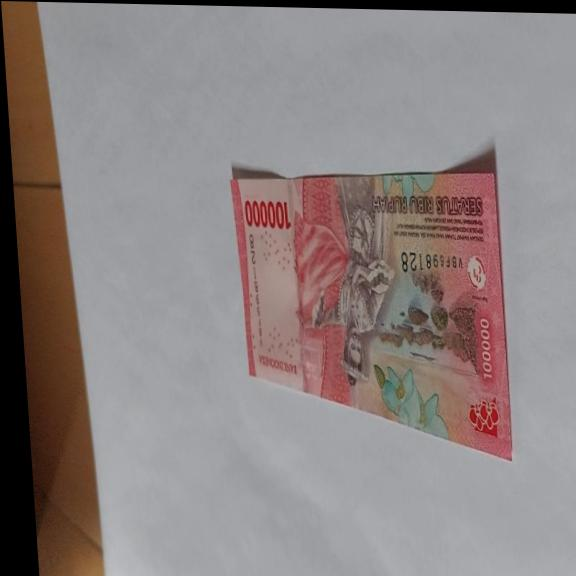Kertas: (227, 160, 515, 463), (242, 197, 292, 232)
